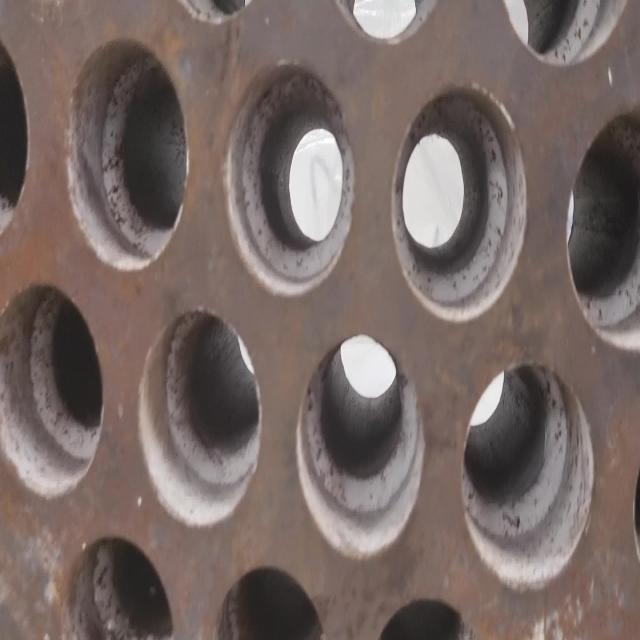Hole: (392, 82, 528, 323), (223, 60, 356, 297), (461, 362, 595, 591), (296, 333, 426, 560), (67, 37, 188, 272), (137, 306, 263, 530), (1, 279, 106, 499), (566, 107, 640, 353), (64, 533, 176, 639)
